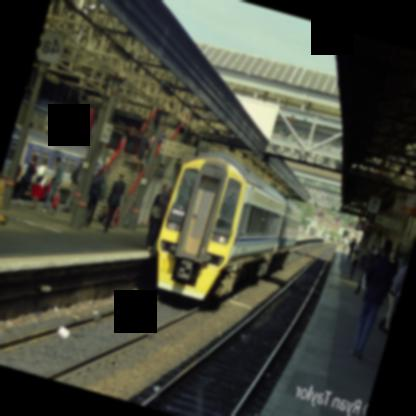backpack: (98, 180, 107, 203), (349, 241, 354, 248)
handbag: (150, 193, 165, 219), (35, 175, 43, 183), (20, 173, 26, 181)
suitcase: (97, 205, 106, 224)
